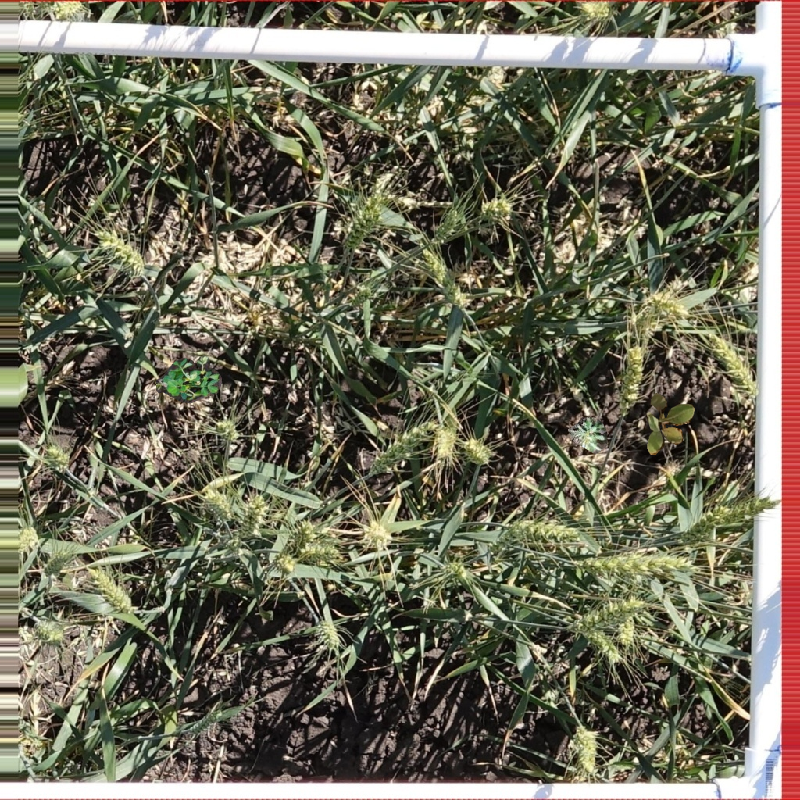spikelet: (366, 417, 433, 475), (590, 546, 695, 578), (511, 514, 593, 554), (707, 332, 753, 396), (93, 225, 146, 275), (613, 342, 648, 411), (88, 564, 135, 611), (343, 194, 383, 248), (567, 722, 601, 774), (640, 287, 688, 323), (584, 625, 624, 664), (430, 206, 468, 243), (240, 491, 272, 534), (200, 486, 237, 522), (298, 535, 342, 564), (359, 516, 395, 551), (311, 614, 344, 650), (434, 556, 473, 586), (431, 423, 459, 463), (460, 434, 495, 465), (261, 551, 297, 581), (33, 613, 68, 643), (40, 441, 72, 473), (210, 413, 243, 444), (419, 247, 448, 282), (479, 194, 514, 222), (577, 1, 617, 23), (17, 523, 40, 553), (536, 684, 562, 710), (615, 615, 637, 645)
weed: (156, 355, 222, 403), (646, 393, 695, 455), (563, 408, 617, 457)
